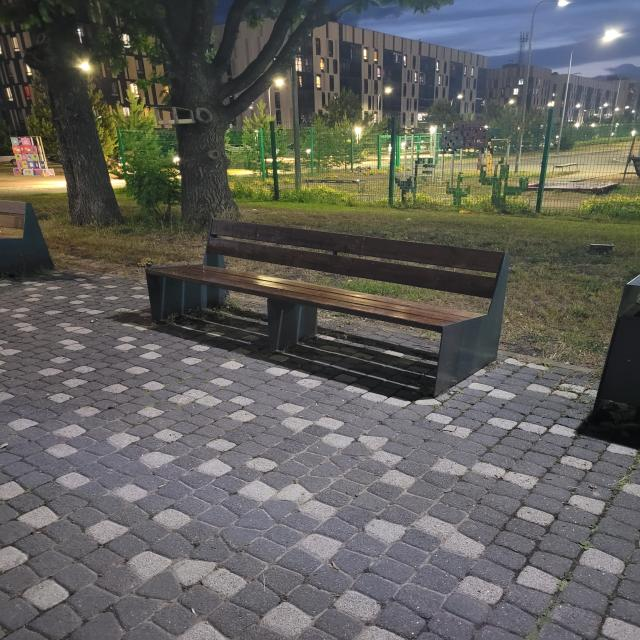Bench: (145, 218, 508, 397)
